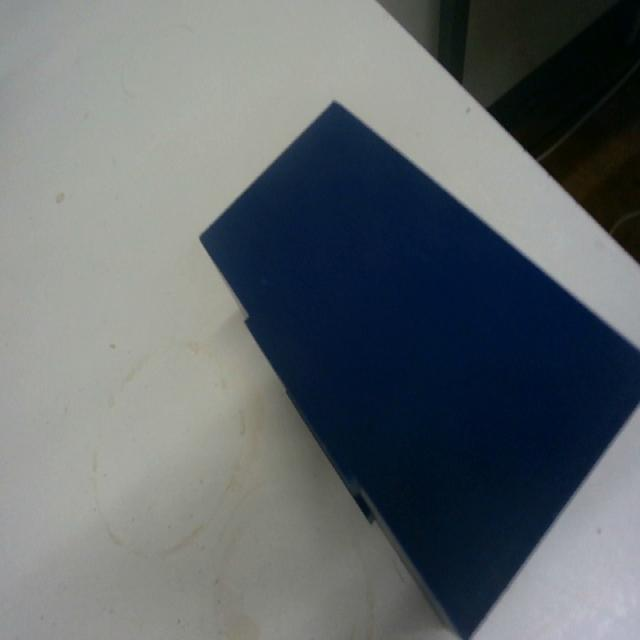Blue Cuboid: (197, 96, 639, 637)
